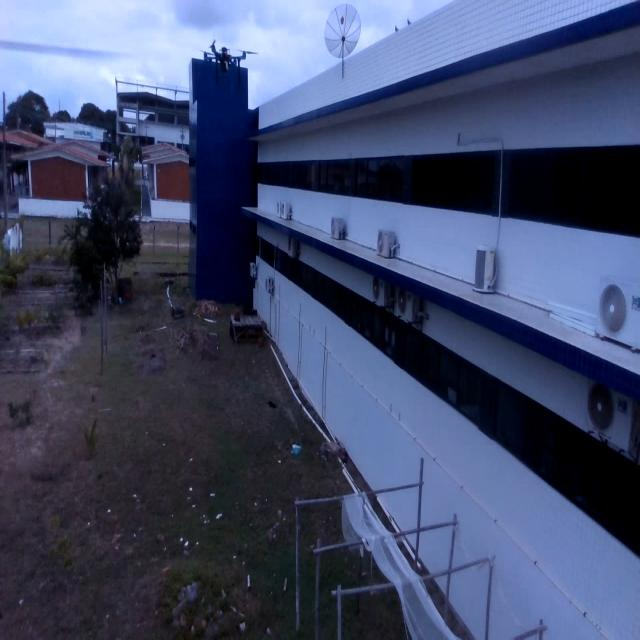-uav-: (194, 30, 258, 102)
